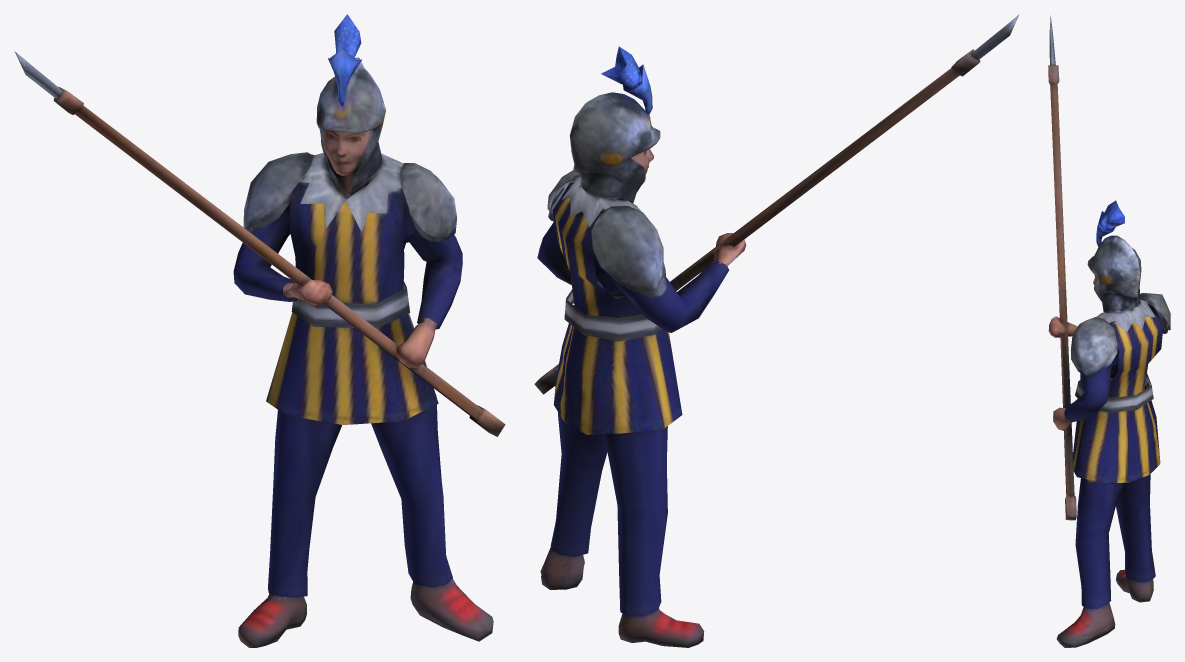
The model's file is Pikemen.glb.
The picture shows the model from 3 angles, left to right: view 1: azimuth 30°, elevation 25°; view 2: azimuth 150°, elevation 25°; view 3: azimuth 270°, elevation 25°; orthographic projection. The views are drawn at different scales.
Visible parts, largest first — view 1: Sphere.004; view 2: Sphere.004; view 3: Sphere.004.
Boxes of the visible parts, x1,y1,x2,y2 form: Sphere.004: (14,14,505,647); Sphere.004: (534,14,1019,647); Sphere.004: (1048,15,1170,647).
Bounding box in the file's own units: 1.72 × 2.32 × 0.5413.
1 material, 1 textured.
